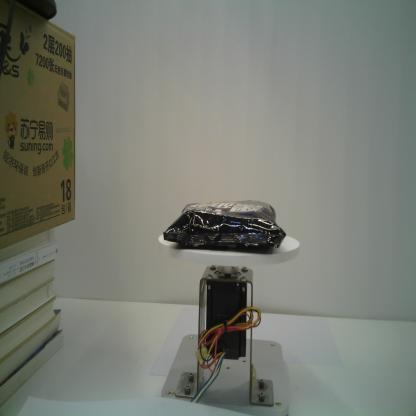Instant Noodles: (161, 198, 290, 256)
